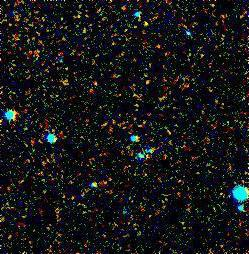star: (129, 8, 159, 38)
